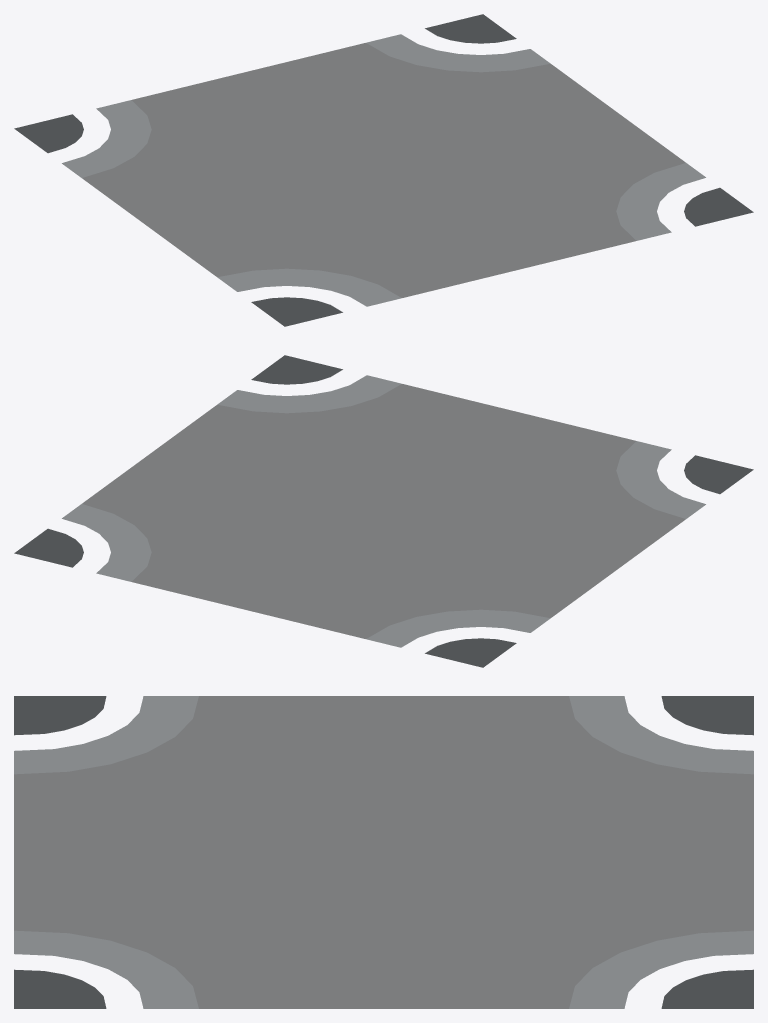
The model's file is Ceiling_type_B_022.glb.
3 renders of one model, top to bottom at view 1: azimuth 30°, elevation 25°; view 2: azimuth 150°, elevation 25°; view 3: azimuth 270°, elevation 25°, orthographic. The views are drawn at different scales.
Visible parts, largest first — view 1: Ceiling_type_B_022; view 2: Ceiling_type_B_022; view 3: Ceiling_type_B_022.
Boxes of the visible parts, left/top/right/bottom form: Ceiling_type_B_022: left=14, top=14, right=753, bottom=326; Ceiling_type_B_022: left=14, top=355, right=753, bottom=667; Ceiling_type_B_022: left=14, top=696, right=753, bottom=1008.
Bounding box in the file's own units: 4 × 0.057 × 4.
Materials: 2 (2 with a texture image).
